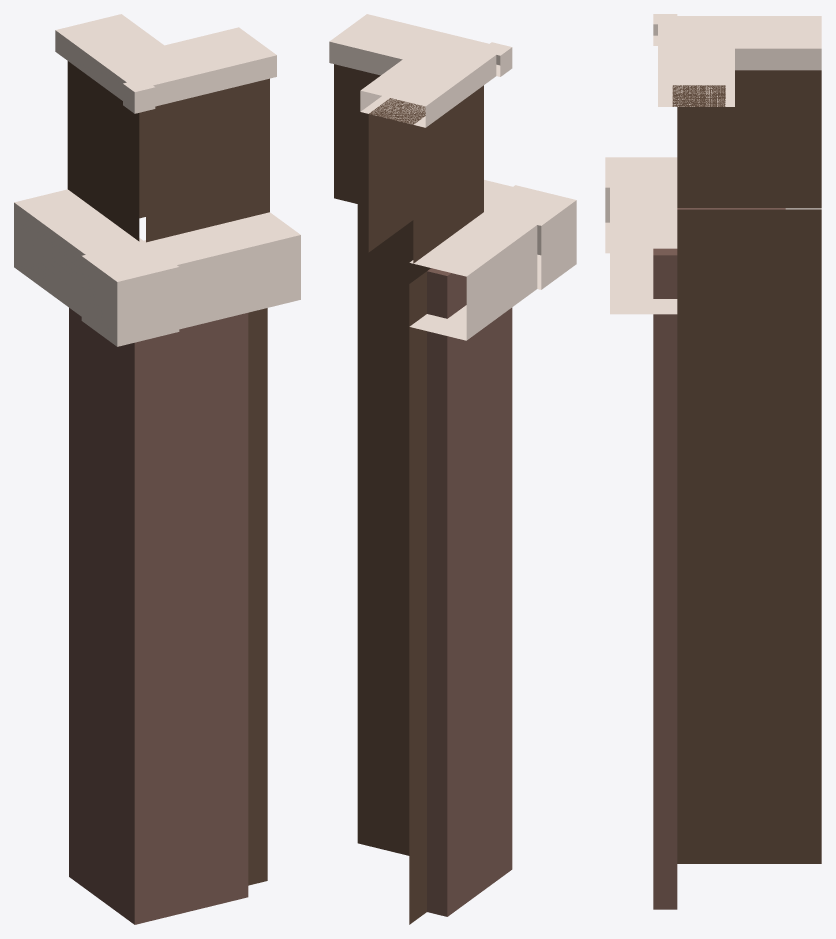
The model's file is top-c1.fbx.
3 views of the same model, side by side, from view 1: azimuth 30°, elevation 25°; view 2: azimuth 150°, elevation 25°; view 3: azimuth 270°, elevation 25° (orthographic). The views are drawn at different scales.
Parts seen in each view (by area): view 1: a2001/800/top-c1; view 2: a2001/800/top-c1; view 3: a2001/800/top-c1.
Boxes of the visible parts, x1,y1,x2,y2 form: a2001/800/top-c1: [14, 14, 300, 924]; a2001/800/top-c1: [329, 14, 576, 924]; a2001/800/top-c1: [605, 14, 821, 909].
Size of the model in its own units: 0.9 by 3.85 by 0.9.
